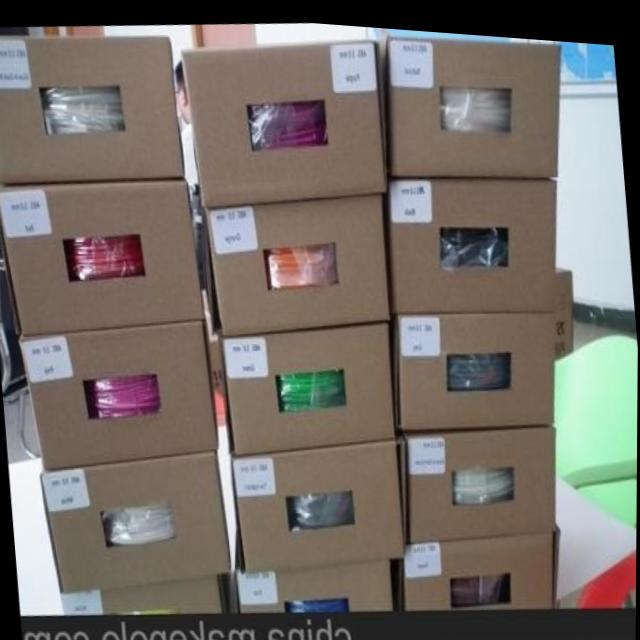box: (181, 33, 386, 206), (0, 176, 205, 333), (20, 315, 220, 469), (41, 445, 232, 590), (202, 187, 389, 332), (0, 34, 183, 181), (379, 29, 560, 173), (218, 313, 396, 452), (383, 168, 554, 308), (232, 435, 406, 566), (394, 304, 555, 431), (399, 415, 555, 534), (234, 520, 393, 611), (400, 518, 556, 603), (61, 568, 231, 614)
